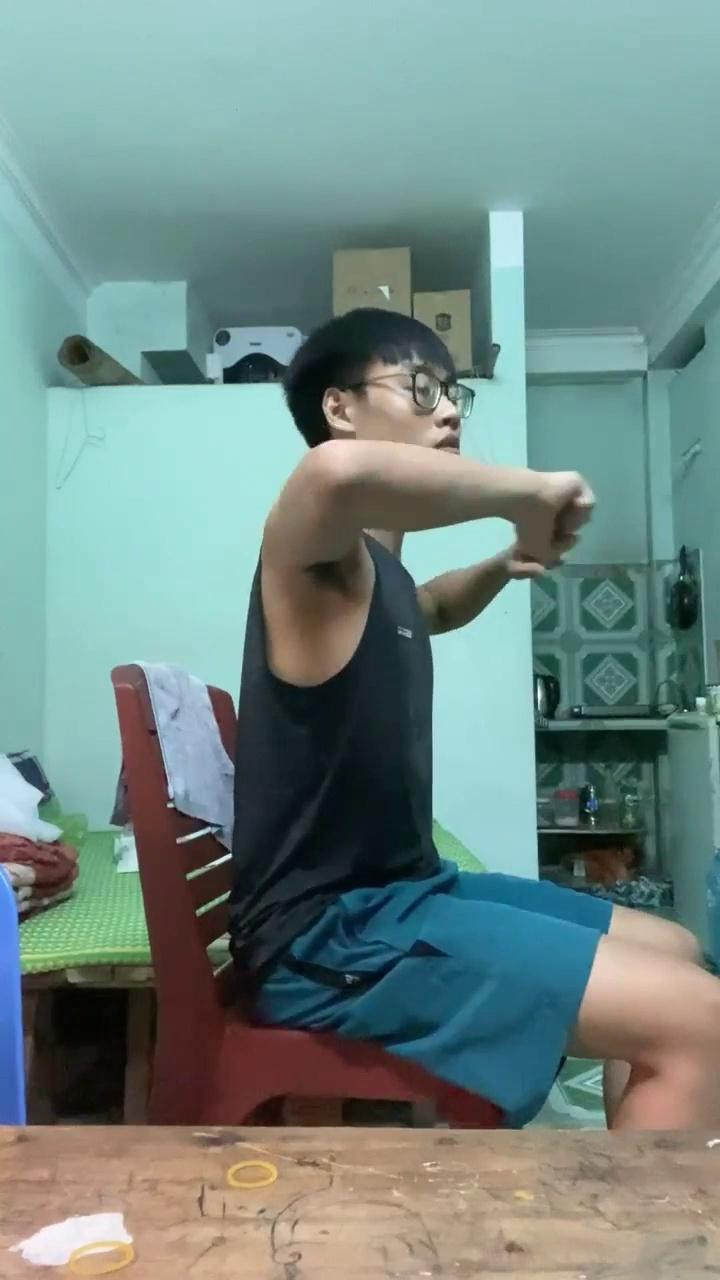GoodPosture: (227, 309, 719, 1129)
